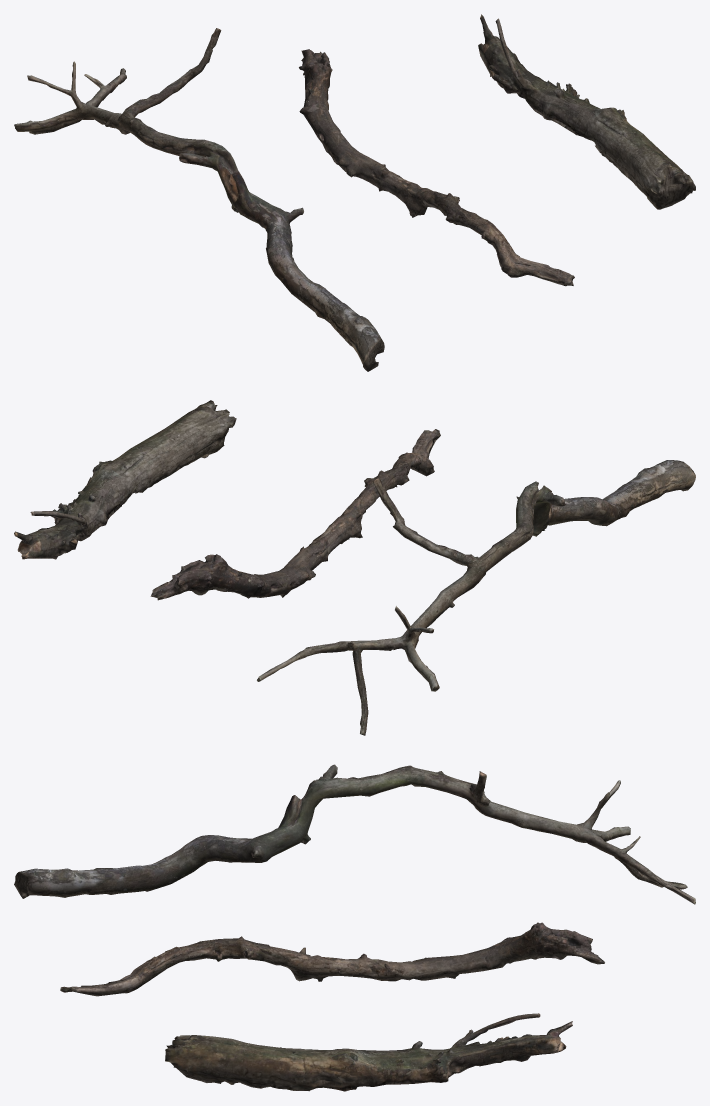
Rendered from dry_branches_medium_01.glb.
The picture shows the model from 3 angles, top to bottom: view 1: azimuth 30°, elevation 25°; view 2: azimuth 150°, elevation 25°; view 3: azimuth 270°, elevation 25°; orthographic projection. The views are drawn at different scales.
Visible parts, largest first — view 1: dry_branches_medium_01_a, dry_branches_medium_01_c, dry_branches_medium_01_b; view 2: dry_branches_medium_01_a, dry_branches_medium_01_c, dry_branches_medium_01_b; view 3: dry_branches_medium_01_a, dry_branches_medium_01_c, dry_branches_medium_01_b.
Part boxes in pixels (bbox=[...]): dry_branches_medium_01_a: bbox=[14, 28, 384, 371]; dry_branches_medium_01_c: bbox=[478, 14, 695, 209]; dry_branches_medium_01_b: bbox=[299, 49, 574, 286]; dry_branches_medium_01_a: bbox=[257, 460, 695, 735]; dry_branches_medium_01_c: bbox=[14, 400, 236, 559]; dry_branches_medium_01_b: bbox=[150, 429, 440, 600]; dry_branches_medium_01_a: bbox=[14, 764, 695, 904]; dry_branches_medium_01_c: bbox=[165, 1013, 572, 1091]; dry_branches_medium_01_b: bbox=[60, 922, 604, 996].
Size of the model in its own units: 1.06 by 0.341 by 1.3.
1 material, 1 textured.
